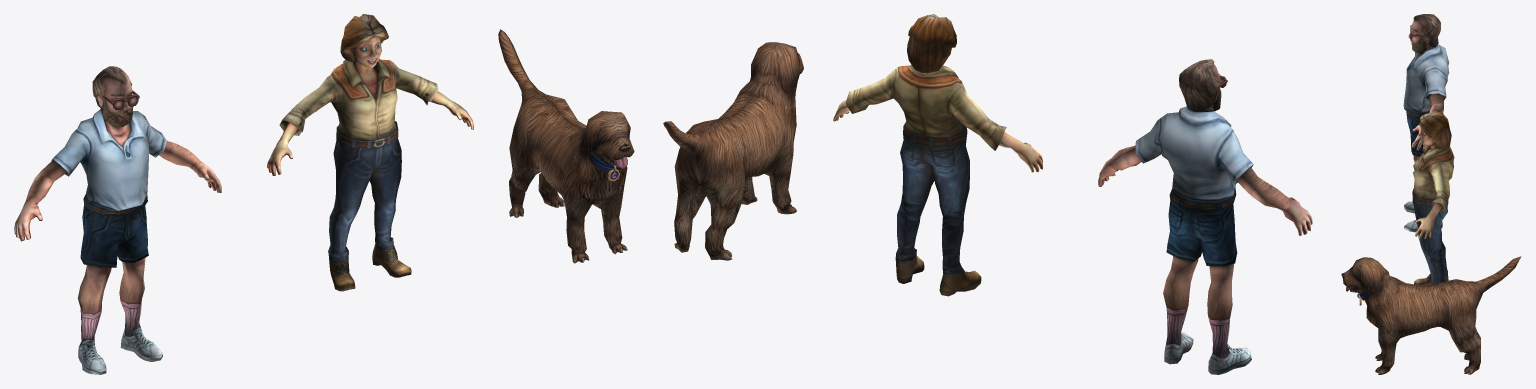
3 views of the same model, side by side, from view 1: azimuth 30°, elevation 25°; view 2: azimuth 150°, elevation 25°; view 3: azimuth 270°, elevation 25° (orthographic). The views are drawn at different scales.
Parts seen in each view (by area): view 1: IS4_MDL_PersonajePerro_v01, IS8E_ANM_DadJ:IS4_MDL_PersonajePadre_Torso_v01, IS8E_ANM_MomJ:IS4_MDL_PersonajeMadre_Torso_v01, IS8E_ANM_MomJ:IS4_MDL_PersonajeMadre_Piernas_v01, IS8E_ANM_DadJ:IS4_MDL_PersonajePadre_Pantalon_v01, IS8E_ANM_MomJ:IS4_MDL_PersonajeMadre_Cabeza_v01, IS8E_ANM_DadJ:IS4_MDL_PersonajePadre_Cabeza_v01, IS8E_ANM_DadJ:IS4_MDL_PersonajePadre_BrazoDerecho_v01, IS8E_ANM_DadJ:IS4_MDL_PersonajePadre_PieIzquierdo_v01, IS8E_ANM_DadJ:IS4_MDL_PersonajePadre_PiernaDerecho_v01, IS8E_ANM_DadJ:IS4_MDL_PersonajePadre_PieDerecho_v01, IS8E_ANM_DadJ:IS4_MDL_PersonajePadre_BrazoIzquierdo_v01 (+5 smaller); view 2: IS4_MDL_PersonajePerro_v01, IS8E_ANM_DadJ:IS4_MDL_PersonajePadre_Torso_v01, IS8E_ANM_MomJ:IS4_MDL_PersonajeMadre_Piernas_v01, IS8E_ANM_MomJ:IS4_MDL_PersonajeMadre_Torso_v01, IS8E_ANM_DadJ:IS4_MDL_PersonajePadre_Pantalon_v01, IS8E_ANM_MomJ:IS4_MDL_PersonajeMadre_Cabeza_v01, IS8E_ANM_DadJ:IS4_MDL_PersonajePadre_Cabeza_v01, IS8E_ANM_DadJ:IS4_MDL_PersonajePadre_BrazoDerecho_v01, IS8E_ANM_DadJ:IS4_MDL_PersonajePadre_PieDerecho_v01, IS8E_ANM_DadJ:IS4_MDL_PersonajePadre_PiernaDerecho_v01, IS8E_ANM_DadJ:IS4_MDL_PersonajePadre_PiernaIzquierdo_v01, IS8E_ANM_DadJ:IS4_MDL_PersonajePadre_PieIzquierdo_v01 (+4 smaller); view 3: IS4_MDL_PersonajePerro_v01, IS8E_ANM_DadJ:IS4_MDL_PersonajePadre_Torso_v01, IS8E_ANM_MomJ:IS4_MDL_PersonajeMadre_Torso_v01, IS8E_ANM_MomJ:IS4_MDL_PersonajeMadre_Piernas_v01, IS8E_ANM_MomJ:IS4_MDL_PersonajeMadre_Cabeza_v01, IS8E_ANM_DadJ:IS4_MDL_PersonajePadre_Cabeza_v01, IS8E_ANM_DadJ:IS4_MDL_PersonajePadre_Pantalon_v01, IS8E_ANM_MomJ:IS4_MDL_PersonajeMadre_ManoIzquierda_v01, IS8E_ANM_DadJ:IS4_MDL_PersonajePadre_BrazoIzquierdo_v01, IS8E_ANM_MomJ:IS4_MDL_PersonajeMadre_PieDerecho_v01.
Part boxes in pixels (x1,y1,x2,y2): IS4_MDL_PersonajePerro_v01: (498, 29, 634, 263); IS8E_ANM_DadJ:IS4_MDL_PersonajePadre_Torso_v01: (51, 109, 166, 210); IS8E_ANM_MomJ:IS4_MDL_PersonajeMadre_Torso_v01: (279, 58, 438, 144); IS8E_ANM_MomJ:IS4_MDL_PersonajeMadre_Piernas_v01: (328, 121, 401, 257); IS8E_ANM_DadJ:IS4_MDL_PersonajePadre_Pantalon_v01: (80, 194, 148, 267); IS8E_ANM_MomJ:IS4_MDL_PersonajeMadre_Cabeza_v01: (340, 14, 388, 68); IS8E_ANM_DadJ:IS4_MDL_PersonajePadre_Cabeza_v01: (92, 66, 133, 126); IS8E_ANM_DadJ:IS4_MDL_PersonajePadre_BrazoDerecho_v01: (14, 160, 67, 241); IS8E_ANM_DadJ:IS4_MDL_PersonajePadre_PieIzquierdo_v01: (120, 300, 162, 361); IS8E_ANM_DadJ:IS4_MDL_PersonajePadre_PiernaDerecho_v01: (78, 265, 111, 315); IS8E_ANM_DadJ:IS4_MDL_PersonajePadre_PieDerecho_v01: (78, 308, 106, 374); IS8E_ANM_DadJ:IS4_MDL_PersonajePadre_BrazoIzquierdo_v01: (159, 141, 221, 192); IS4_MDL_PersonajePerro_v01: (663, 42, 803, 260); IS8E_ANM_DadJ:IS4_MDL_PersonajePadre_Torso_v01: (1135, 106, 1253, 200); IS8E_ANM_MomJ:IS4_MDL_PersonajeMadre_Piernas_v01: (896, 121, 969, 271); IS8E_ANM_MomJ:IS4_MDL_PersonajeMadre_Torso_v01: (845, 64, 1006, 150); IS8E_ANM_DadJ:IS4_MDL_PersonajePadre_Pantalon_v01: (1166, 189, 1237, 266); IS8E_ANM_MomJ:IS4_MDL_PersonajeMadre_Cabeza_v01: (907, 14, 956, 73); IS8E_ANM_DadJ:IS4_MDL_PersonajePadre_Cabeza_v01: (1179, 59, 1221, 111); IS8E_ANM_DadJ:IS4_MDL_PersonajePadre_BrazoDerecho_v01: (1237, 167, 1312, 235); IS8E_ANM_DadJ:IS4_MDL_PersonajePadre_PieDerecho_v01: (1208, 316, 1251, 374); IS8E_ANM_DadJ:IS4_MDL_PersonajePadre_PiernaDerecho_v01: (1207, 264, 1233, 321); IS8E_ANM_DadJ:IS4_MDL_PersonajePadre_PiernaIzquierdo_v01: (1163, 256, 1198, 310); IS8E_ANM_DadJ:IS4_MDL_PersonajePadre_PieIzquierdo_v01: (1164, 306, 1193, 364); IS4_MDL_PersonajePerro_v01: (1341, 256, 1521, 374); IS8E_ANM_DadJ:IS4_MDL_PersonajePadre_Torso_v01: (1403, 44, 1449, 112); IS8E_ANM_MomJ:IS4_MDL_PersonajeMadre_Torso_v01: (1412, 145, 1454, 213); IS8E_ANM_MomJ:IS4_MDL_PersonajeMadre_Piernas_v01: (1412, 189, 1448, 285); IS8E_ANM_MomJ:IS4_MDL_PersonajeMadre_Cabeza_v01: (1418, 111, 1451, 149); IS8E_ANM_DadJ:IS4_MDL_PersonajePadre_Cabeza_v01: (1408, 14, 1440, 52); IS8E_ANM_DadJ:IS4_MDL_PersonajePadre_Pantalon_v01: (1405, 109, 1443, 156); IS8E_ANM_MomJ:IS4_MDL_PersonajeMadre_ManoIzquierda_v01: (1415, 202, 1442, 239); IS8E_ANM_DadJ:IS4_MDL_PersonajePadre_BrazoIzquierdo_v01: (1411, 93, 1443, 150); IS8E_ANM_MomJ:IS4_MDL_PersonajeMadre_PieDerecho_v01: (1414, 270, 1448, 285).
Bounding box in the file's own units: 3.88 × 1.84 × 1.46.
